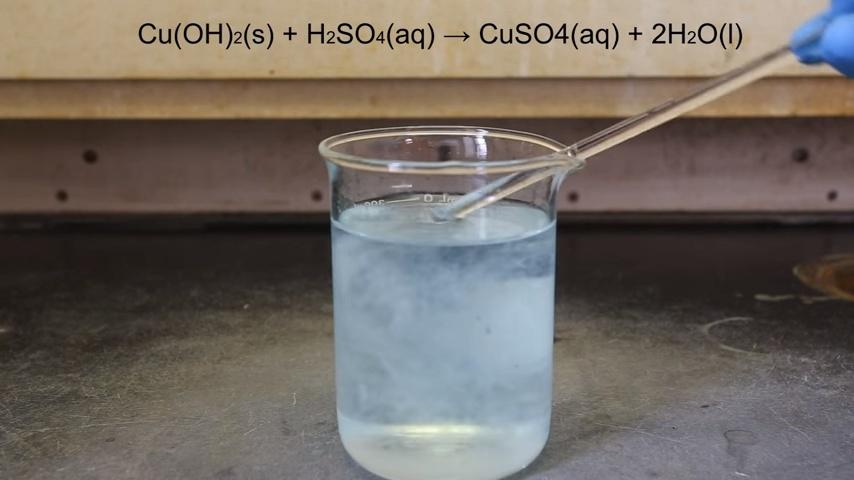Beaker: (299, 121, 587, 471)
